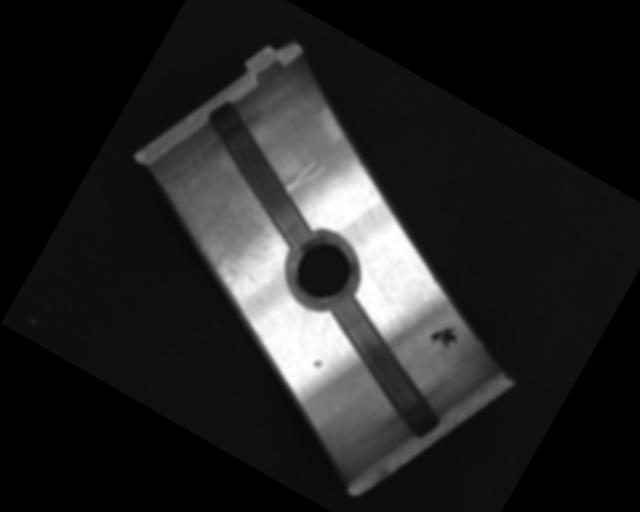blot: (425, 317, 463, 356)
bruise: (312, 358, 324, 369)
gap: (168, 91, 351, 254), (297, 290, 475, 445)
hole: (275, 226, 365, 317)
nick: (283, 151, 329, 204)
scratch: (120, 118, 317, 307)
